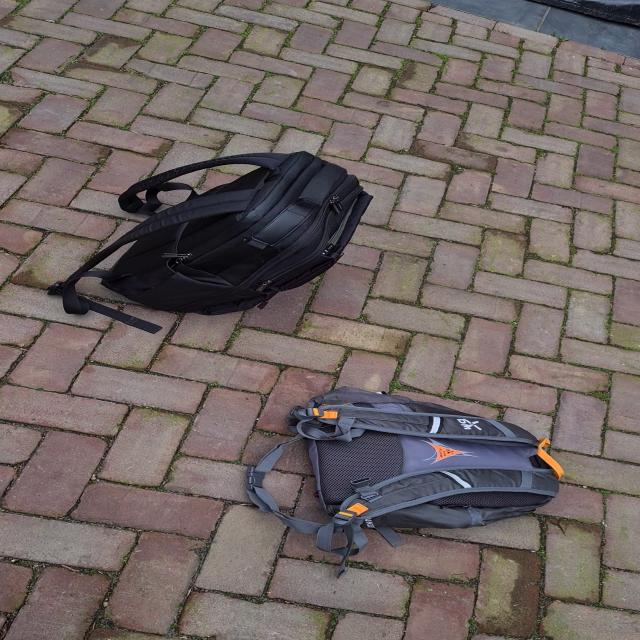backpack: (54, 145, 383, 317), (276, 382, 568, 535)
